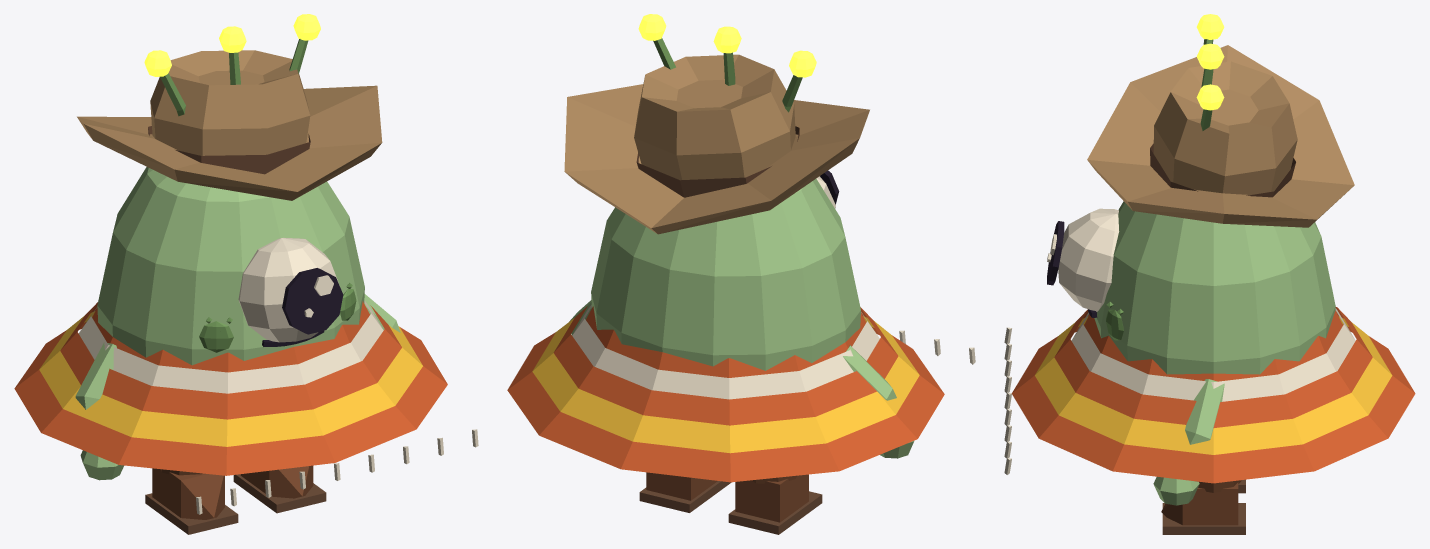
File: Char_Native_Poncho.fbx
The picture shows the model from 3 angles, left to right: view 1: azimuth 30°, elevation 25°; view 2: azimuth 150°, elevation 25°; view 3: azimuth 270°, elevation 25°; orthographic projection. The views are drawn at different scales.
Parts seen in each view (by area): view 1: Char_Native_Poncho_Body, Char_Native_Poncho_Head, Char_Native_Poncho_Leg_R, Char_Native_Poncho_Leg_L, Char_Native_Poncho_Arm_R; view 2: Char_Native_Poncho_Body, Char_Native_Poncho_Leg_R, Char_Native_Poncho_Head, Char_Native_Poncho_Leg_L, Char_Native_Poncho_Arm_R; view 3: Char_Native_Poncho_Body, Char_Native_Poncho_Head, Char_Native_Poncho_Leg_L, Char_Native_Poncho_Arm_L.
Boxes of the visible parts, box(x1,y1,x2,y2) form: Char_Native_Poncho_Body: box(14, 50, 478, 514); Char_Native_Poncho_Head: box(144, 14, 356, 352); Char_Native_Poncho_Leg_R: box(145, 468, 238, 534); Char_Native_Poncho_Leg_L: box(233, 465, 326, 513); Char_Native_Poncho_Arm_R: box(75, 342, 123, 480); Char_Native_Poncho_Body: box(507, 54, 975, 482); Char_Native_Poncho_Leg_R: box(728, 474, 822, 534); Char_Native_Poncho_Head: box(638, 14, 839, 208); Char_Native_Poncho_Leg_L: box(639, 472, 731, 512); Char_Native_Poncho_Arm_R: box(843, 345, 914, 458); Char_Native_Poncho_Body: box(1004, 45, 1415, 483); Char_Native_Poncho_Head: box(1047, 14, 1224, 340); Char_Native_Poncho_Leg_L: box(1161, 480, 1245, 534); Char_Native_Poncho_Arm_L: box(1153, 379, 1224, 505).
Size of the model in its own units: 1.38 by 1.64 by 1.33.
